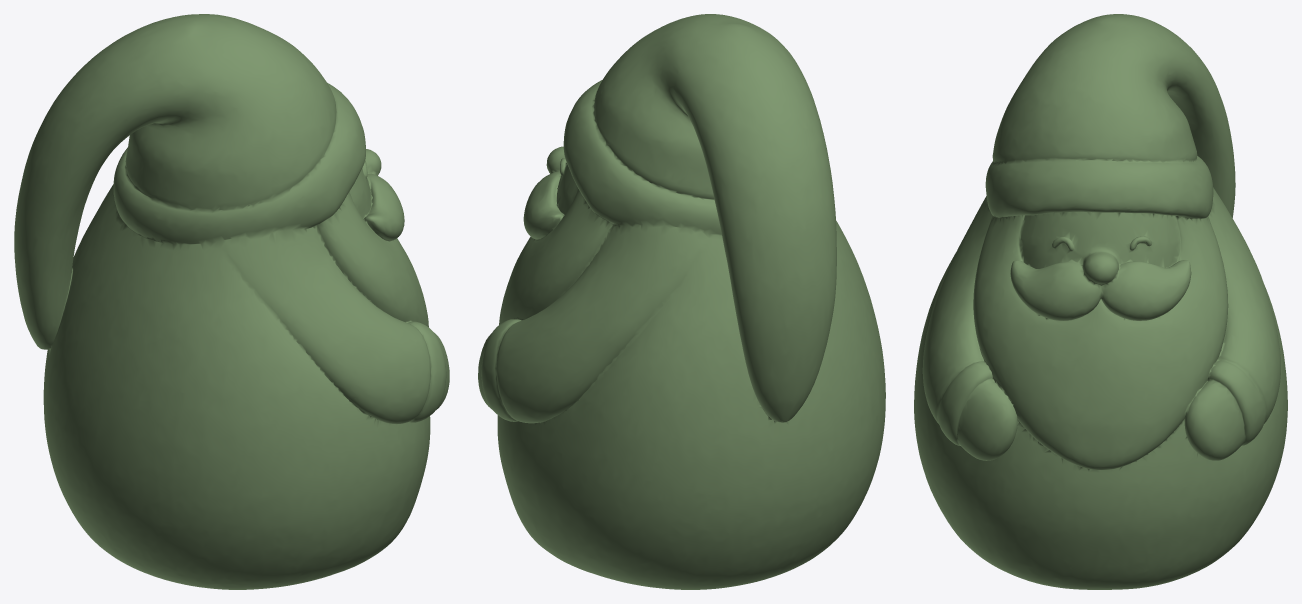
Rendered from santa.glb.
The picture shows the model from 3 angles, left to right: view 1: azimuth 30°, elevation 25°; view 2: azimuth 150°, elevation 25°; view 3: azimuth 270°, elevation 25°; orthographic projection. The views are drawn at different scales.
Visible parts, largest first — view 1: tripo_printable_source; view 2: tripo_printable_source; view 3: tripo_printable_source.
Boxes of the visible parts, x1,y1,x2,y2 form: tripo_printable_source: (14, 14, 449, 589); tripo_printable_source: (478, 14, 885, 589); tripo_printable_source: (914, 14, 1287, 589).
Bounding box in the file's own units: 70 × 100 × 68.71.
